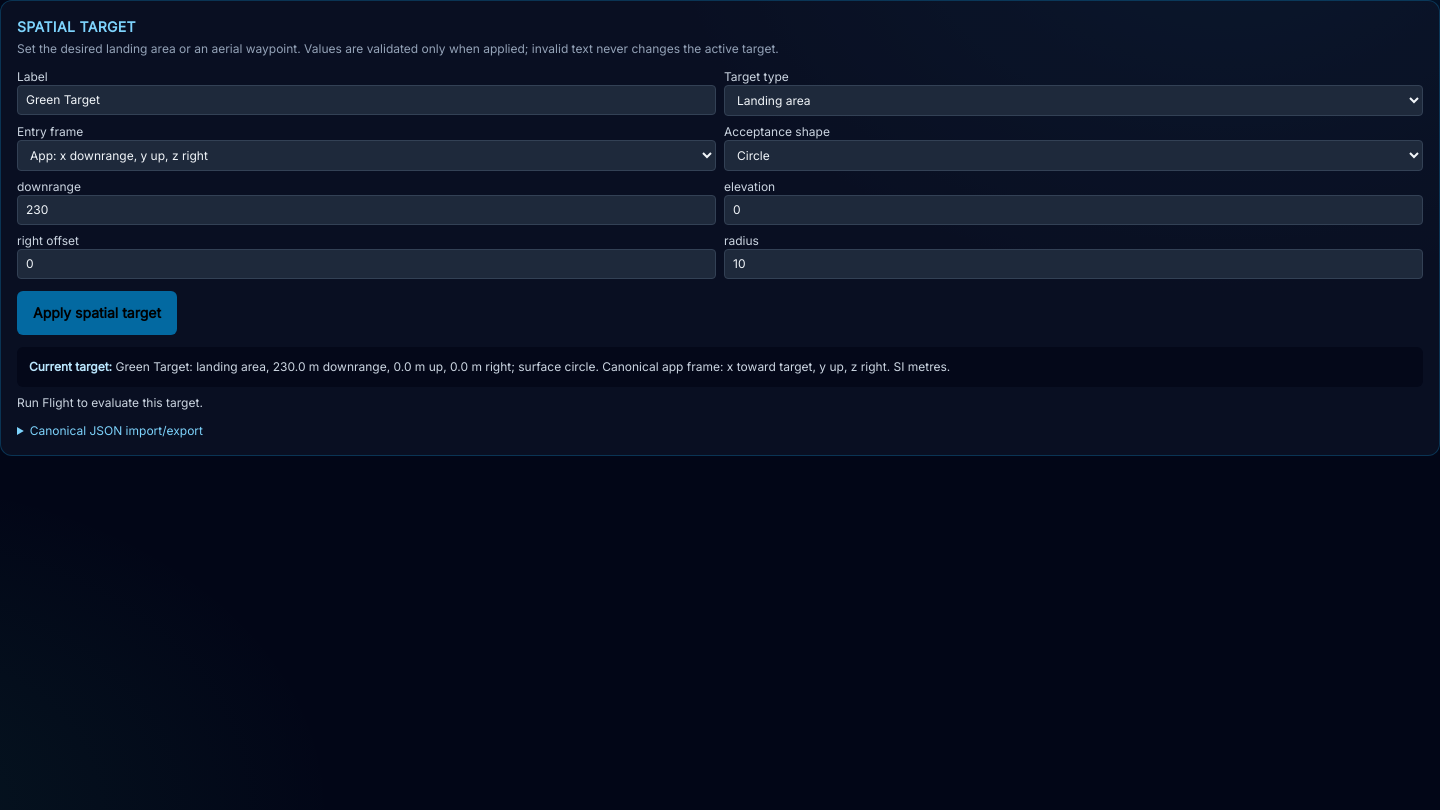
Scenario: SpatialTargetSection › reports invalid coordinates and preserves the last valid target
Replace the text in the field named "Target downrange m" with "not-a-number" at point(366, 210), box [17,195,716,225]
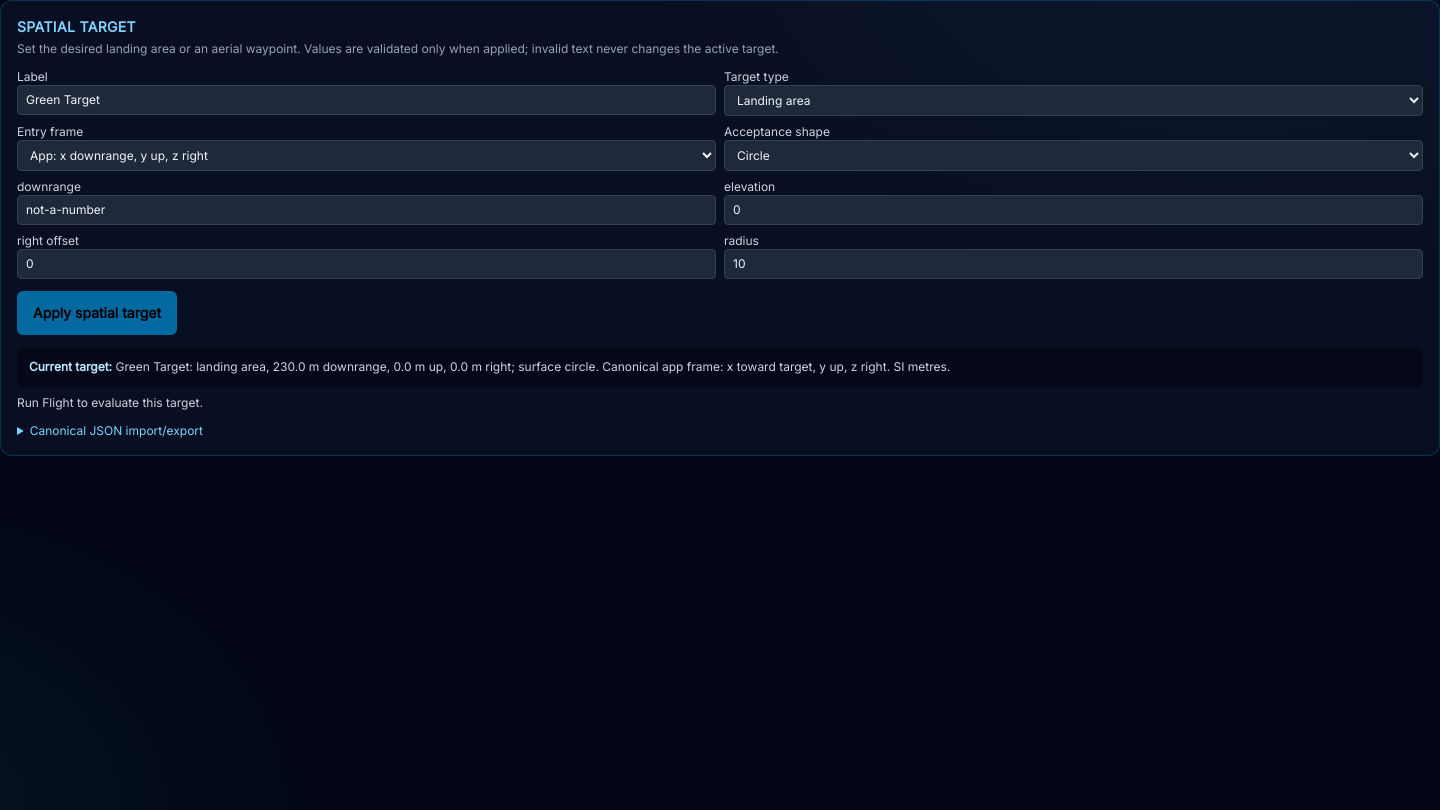
Click the button "Apply spatial target" at point(97, 313), box [17,291,177,335]
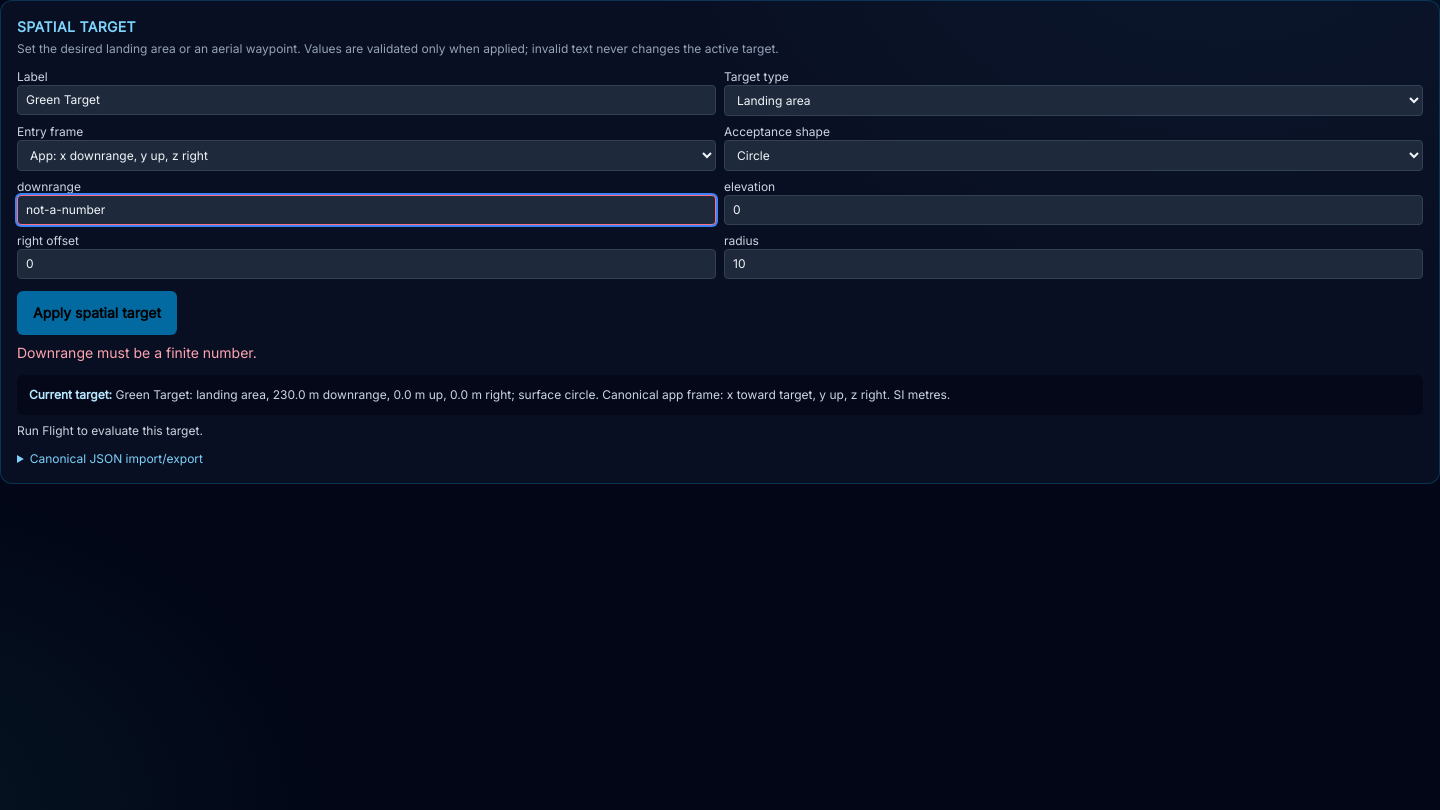
Expected: the message "Downrange must be a finite number." is shown, [17,344,257,361]
